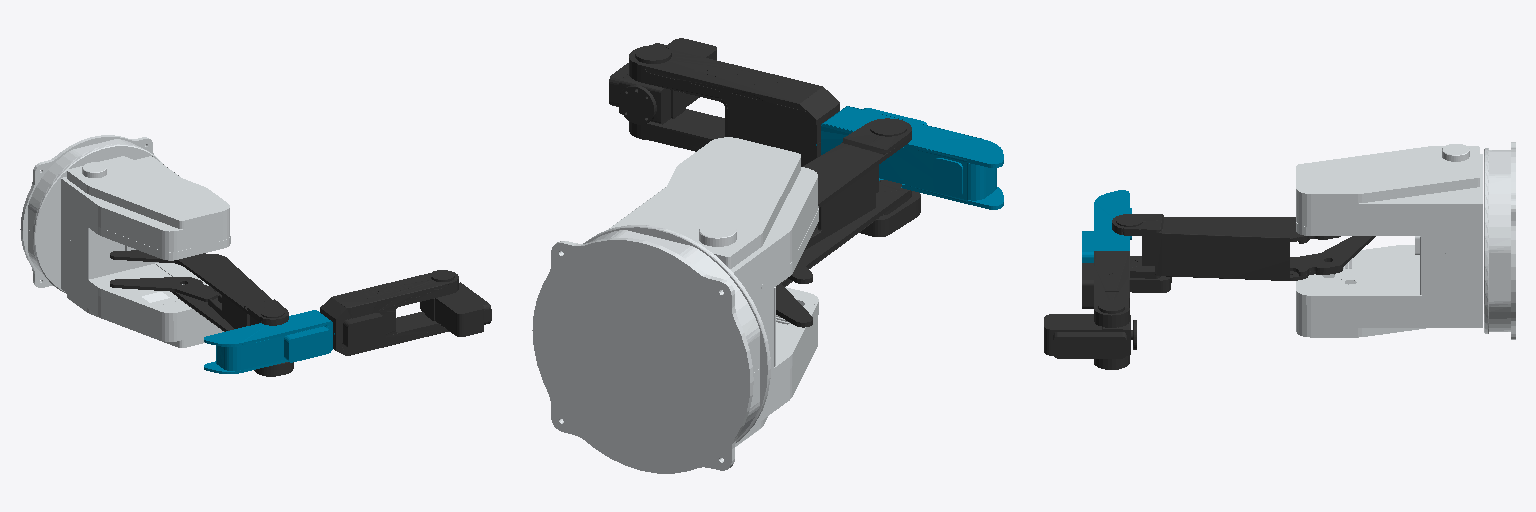
The robot description file, URDF, robot "Horst900_urdf":
<?xml version="1.0" encoding="utf-8"?>
<!-- This URDF was automatically created by SolidWorks to URDF Exporter! Originally created by [author] ([email redacted]) 
     Commit Version: 1.6.0-4-g7f85cfe  Build Version: 1.6.7995.38578
     For more information, please see http://wiki.ros.org/sw_urdf_exporter -->
<robot
  name="Horst900_urdf">
  <link
    name="base_link">
    <inertial>
      <origin
        xyz="-1.1001E-06 -2.599E-08 0.0058759"
        rpy="0 0 0" />
      <mass
        value="1.21" />
      <inertia
        ixx="0.011177"
        ixy="-7.4313E-08"
        ixz="-1.2107E-13"
        iyy="0.011689"
        iyz="-8.7273E-11"
        izz="0.022837" />
    </inertial>
    <visual>
      <origin
        xyz="0 0 0"
        rpy="0 0 0" />
      <geometry>
        <mesh
          filename="package://Horst900_urdf/meshes/base_link.STL" />
      </geometry>
      <material
        name="">
        <color
          rgba="0.89804 0.91765 0.92941 1" />
      </material>
    </visual>
    <collision>
      <origin
        xyz="0 0 0"
        rpy="0 0 0" />
      <geometry>
        <mesh
          filename="package://Horst900_urdf/meshes/base_link.STL" />
      </geometry>
    </collision>
  </link>
  <link
    name="Link1">
    <inertial>
      <origin
        xyz="-0.024347 -0.17406 -0.0031107"
        rpy="0 0 0" />
      <mass
        value="0.06735" />
      <inertia
        ixx="1.3452E-05"
        ixy="2.57E-10"
        ixz="5.3266E-22"
        iyy="2.558E-05"
        iyz="9.6363E-22"
        izz="1.3706E-05" />
    </inertial>
    <visual>
      <origin
        xyz="0 0 0"
        rpy="0 0 0" />
      <geometry>
        <mesh
          filename="package://Horst900_urdf/meshes/Link1.STL" />
      </geometry>
      <material
        name="">
        <color
          rgba="0.89804 0.91765 0.92941 1" />
      </material>
    </visual>
    <collision>
      <origin
        xyz="0 0 0"
        rpy="0 0 0" />
      <geometry>
        <mesh
          filename="package://Horst900_urdf/meshes/Link1.STL" />
      </geometry>
    </collision>
  </link>
  <joint
    name="Joint1"
    type="revolute">
    <origin
      xyz="0.02505 -0.3825 2.8818E-05"
      rpy="3.1416 0 0" />
    <parent
      link="base_link" />
    <child
      link="Link1" />
    <axis
      xyz="0 1 0" />
    <limit
      lower="0"
      upper="0"
      effort="0"
      velocity="0" />
  </joint>
  <link
    name="Link2">
    <inertial>
      <origin
        xyz="-0.029702 -0.40976 -4.6582E-09"
        rpy="0 0 0" />
      <mass
        value="0.22367" />
      <inertia
        ixx="0.00056209"
        ixy="-0.00045945"
        ixz="-7.5228E-12"
        iyy="0.00056962"
        iyz="-1.4504E-11"
        izz="0.0011293" />
    </inertial>
    <visual>
      <origin
        xyz="0 0 0"
        rpy="0 0 0" />
      <geometry>
        <mesh
          filename="package://Horst900_urdf/meshes/Link2.STL" />
      </geometry>
      <material
        name="">
        <color
          rgba="0.25098 0.25098 0.25098 1" />
      </material>
    </visual>
    <collision>
      <origin
        xyz="0 0 0"
        rpy="0 0 0" />
      <geometry>
        <mesh
          filename="package://Horst900_urdf/meshes/Link2.STL" />
      </geometry>
    </collision>
  </link>
  <joint
    name="Joint2"
    type="revolute">
    <origin
      xyz="-0.00038936 0.40659 5.3774E-05"
      rpy="0 0 0" />
    <parent
      link="Link1" />
    <child
      link="Link2" />
    <axis
      xyz="0 0 -1" />
    <limit
      lower="0"
      upper="0"
      effort="0"
      velocity="0" />
  </joint>
  <link
    name="Link3">
    <inertial>
      <origin
        xyz="1.0238E-07 -0.00040062 -0.15402"
        rpy="0 0 0" />
      <mass
        value="0.25309" />
      <inertia
        ixx="0.00057293"
        ixy="-1.7292E-10"
        ixz="-6.921E-10"
        iyy="0.00051593"
        iyz="-1.8197E-05"
        izz="8.4556E-05" />
    </inertial>
    <visual>
      <origin
        xyz="0 0 0"
        rpy="0 0 0" />
      <geometry>
        <mesh
          filename="package://Horst900_urdf/meshes/Link3.STL" />
      </geometry>
      <material
        name="">
        <color
          rgba="0 0.54902 0.70588 1" />
      </material>
    </visual>
    <collision>
      <origin
        xyz="0 0 0"
        rpy="0 0 0" />
      <geometry>
        <mesh
          filename="package://Horst900_urdf/meshes/Link3.STL" />
      </geometry>
    </collision>
  </link>
  <joint
    name="Joint3"
    type="revolute">
    <origin
      xyz="0.13873 0.03648 0"
      rpy="0 1.5708 0" />
    <parent
      link="Link2" />
    <child
      link="Link3" />
    <axis
      xyz="1 0 0" />
    <limit
      lower="0"
      upper="0"
      effort="0"
      velocity="0" />
  </joint>
  <link
    name="Link4">
    <inertial>
      <origin
        xyz="0.11141 -0.0035332 -0.00016495"
        rpy="0 0 0" />
      <mass
        value="0.038503" />
      <inertia
        ixx="6.2907E-05"
        ixy="-2.0171E-05"
        ixz="-3.1267E-08"
        iyy="0.00024462"
        iyz="-7.0774E-09"
        izz="0.00022597" />
    </inertial>
    <visual>
      <origin
        xyz="0 0 0"
        rpy="0 0 0" />
      <geometry>
        <mesh
          filename="package://Horst900_urdf/meshes/Link4.STL" />
      </geometry>
      <material
        name="">
        <color
          rgba="0.25098 0.25098 0.25098 1" />
      </material>
    </visual>
    <collision>
      <origin
        xyz="0 0 0"
        rpy="0 0 0" />
      <geometry>
        <mesh
          filename="package://Horst900_urdf/meshes/Link4.STL" />
      </geometry>
    </collision>
  </link>
  <joint
    name="Joint4"
    type="revolute">
    <origin
      xyz="-0.0002 0 0.292"
      rpy="0 1.5708 0" />
    <parent
      link="Link3" />
    <child
      link="Link4" />
    <axis
      xyz="0 0 1" />
    <limit
      lower="0"
      upper="0"
      effort="0"
      velocity="0" />
  </joint>
  <link
    name="Link5">
    <inertial>
      <origin
        xyz="-0.01505 1.1344E-07 -0.064247"
        rpy="0 0 0" />
      <mass
        value="0.025507" />
      <inertia
        ixx="2.1268E-05"
        ixy="1.0397E-11"
        ixz="-2.7343E-07"
        iyy="1.9292E-05"
        iyz="2.3385E-11"
        izz="1.2407E-05" />
    </inertial>
    <visual>
      <origin
        xyz="0 0 0"
        rpy="0 0 0" />
      <geometry>
        <mesh
          filename="package://Horst900_urdf/meshes/Link5.STL" />
      </geometry>
      <material
        name="">
        <color
          rgba="0.25098 0.25098 0.25098 1" />
      </material>
    </visual>
    <collision>
      <origin
        xyz="0 0 0"
        rpy="0 0 0" />
      <geometry>
        <mesh
          filename="package://Horst900_urdf/meshes/Link5.STL" />
      </geometry>
    </collision>
  </link>
  <joint
    name="Joint5"
    type="revolute">
    <origin
      xyz="-0.0001 -0.03975 0"
      rpy="-1.5708 0 3.1416" />
    <parent
      link="Link4" />
    <child
      link="Link5" />
    <axis
      xyz="0 0 -1" />
    <limit
      lower="0"
      upper="0"
      effort="0"
      velocity="0" />
  </joint>
  <link
    name="Link6">
    <inertial>
      <origin
        xyz="0.00032332 -0.44132 0.57131"
        rpy="0 0 0" />
      <mass
        value="1.8181" />
      <inertia
        ixx="0.20278"
        ixy="7.6264E-06"
        ixz="1.8596E-05"
        iyy="0.19047"
        iyz="0.01729"
        izz="0.036763" />
    </inertial>
    <visual>
      <origin
        xyz="0 0 0"
        rpy="0 0 0" />
      <geometry>
        <mesh
          filename="package://Horst900_urdf/meshes/Link6.STL" />
      </geometry>
      <material
        name="">
        <color
          rgba="0.25098 0.25098 0.25098 1" />
      </material>
    </visual>
    <collision>
      <origin
        xyz="0 0 0"
        rpy="0 0 0" />
      <geometry>
        <mesh
          filename="package://Horst900_urdf/meshes/Link6.STL" />
      </geometry>
    </collision>
  </link>
  <joint
    name="Joint6"
    type="revolute">
    <origin
      xyz="0 0 0.012"
      rpy="0 0 -1.5708" />
    <parent
      link="Link5" />
    <child
      link="Link6" />
    <axis
      xyz="0 0 -1" />
    <limit
      lower="0"
      upper="0"
      effort="0"
      velocity="0" />
  </joint>
</robot>

--- Render facts (derived) ---
The picture shows the robot from 3 angles, left to right: view 1: azimuth 30°, elevation 25°; view 2: azimuth 150°, elevation 25°; view 3: azimuth 270°, elevation 25°; orthographic projection.
Robot: Horst900_urdf — 7 links, 6 joints (6 revolute); root link base_link; default pose: every joint at zero.
Visible links, largest first — view 1: Link1, Link2, Link4, Link3, base_link, Link5; view 2: base_link, Link1, Link4, Link2, Link3, Link5, Link6; view 3: Link1, Link2, base_link, Link4, Link5, Link3.
Link boxes in pixels (x1=…): Link1: x1=33, y1=144, x2=230, y2=347; Link2: x1=110, y1=250, x2=293, y2=376; Link4: x1=320, y1=270, x2=458, y2=355; Link3: x1=204, y1=310, x2=334, y2=373; base_link: x1=20, y1=135, x2=153, y2=287; Link5: x1=420, y1=282, x2=491, y2=336; base_link: x1=532, y1=230, x2=759, y2=473; Link1: x1=583, y1=137, x2=818, y2=446; Link4: x1=629, y1=45, x2=839, y2=166; Link2: x1=776, y1=118, x2=920, y2=327; Link3: x1=816, y1=106, x2=1003, y2=209; Link5: x1=609, y1=38, x2=716, y2=124; Link6: x1=619, y1=85, x2=656, y2=124; Link1: x1=1296, y1=144, x2=1488, y2=337; Link2: x1=1112, y1=214, x2=1375, y2=292; base_link: x1=1489, y1=142, x2=1515, y2=339; Link4: x1=1082, y1=251, x2=1129, y2=369; Link5: x1=1044, y1=314, x2=1130, y2=358; Link3: x1=1082, y1=190, x2=1131, y2=262.
Bounding box of the posed robot: 0.7062 × 0.9633 × 0.38 m (x, y, z).
7 mesh visuals loaded from 7 distinct referenced files (7 binary STL).
